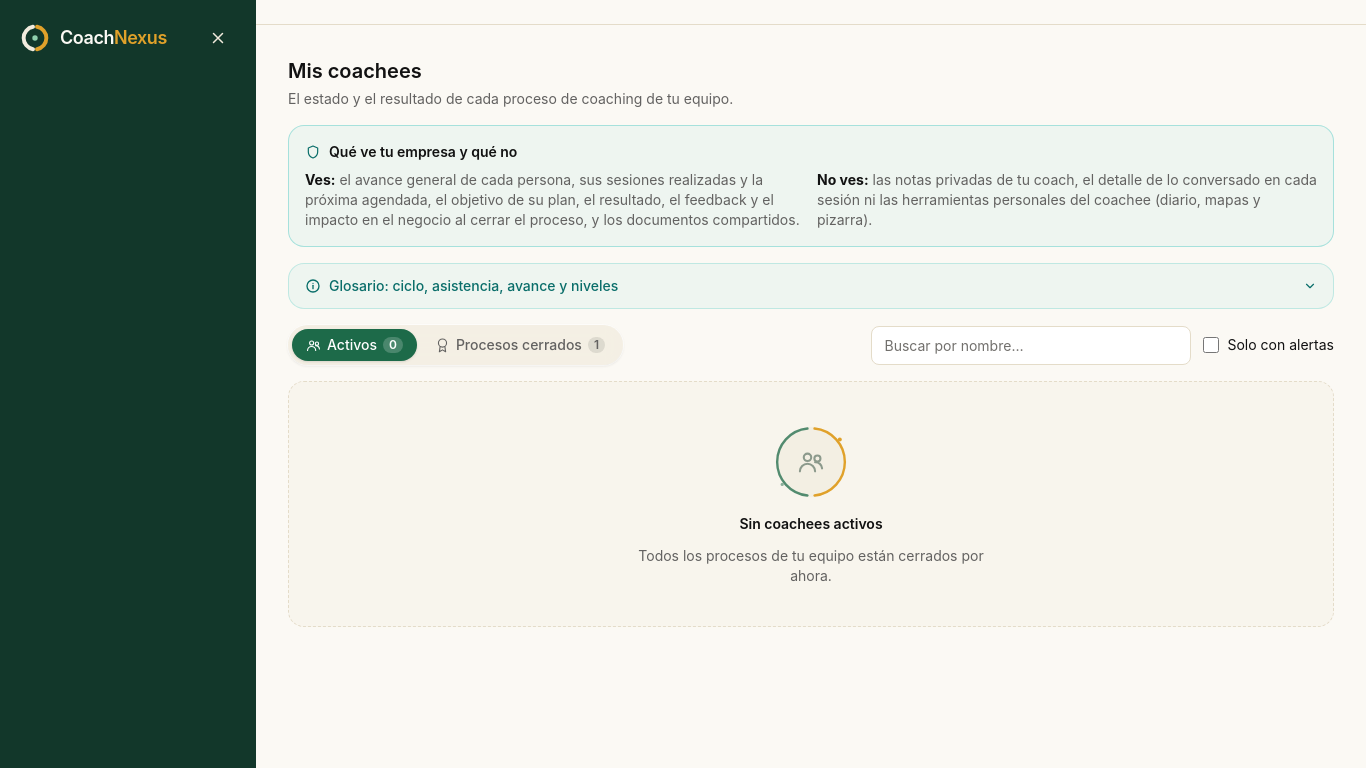
Test: CoacheesView (empresa) › opens the feedback modal with the coachee retroalimentación de cierre
Step 1. Click the tab "Procesos cerrados 1" → {"x": 520, "y": 345}, box [421,329,619,361]
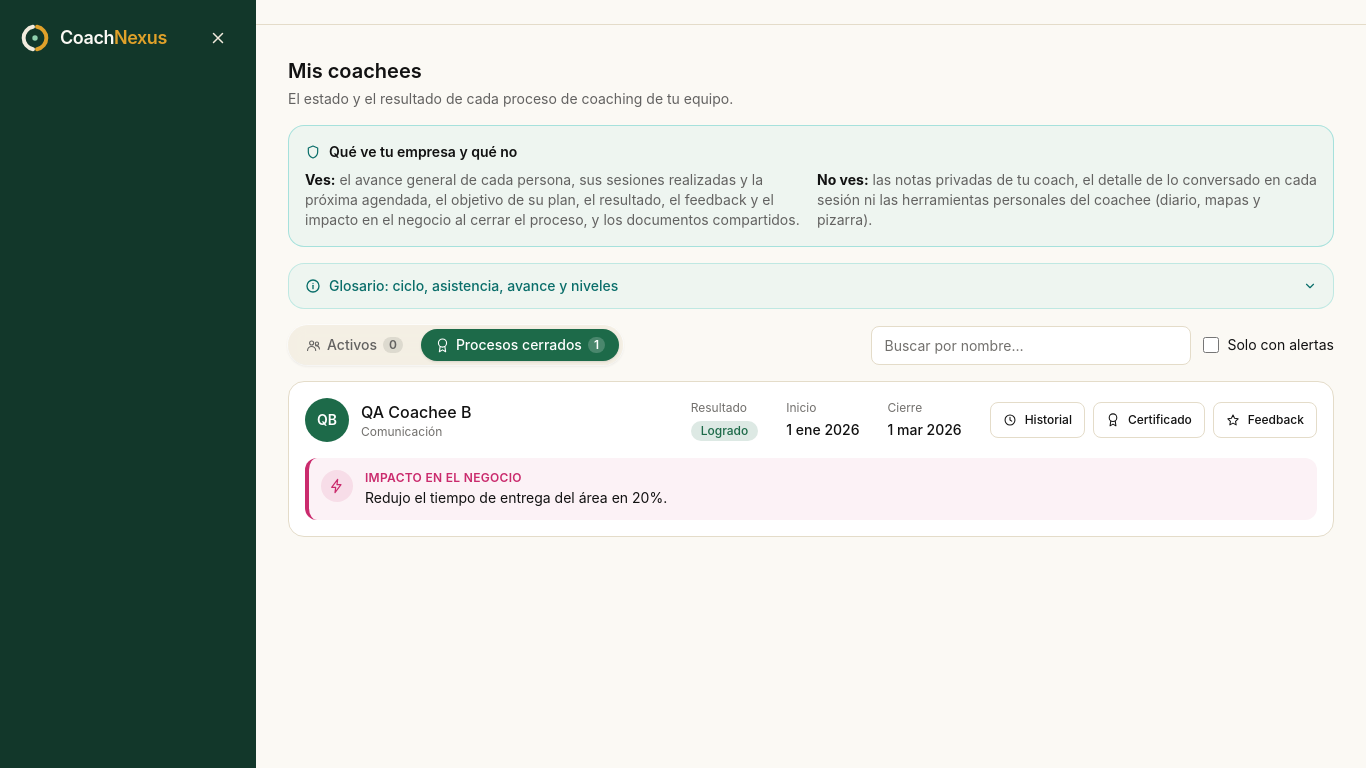
Step 2. Click the button "Feedback" → {"x": 1265, "y": 420}, box [1213,402,1317,438]
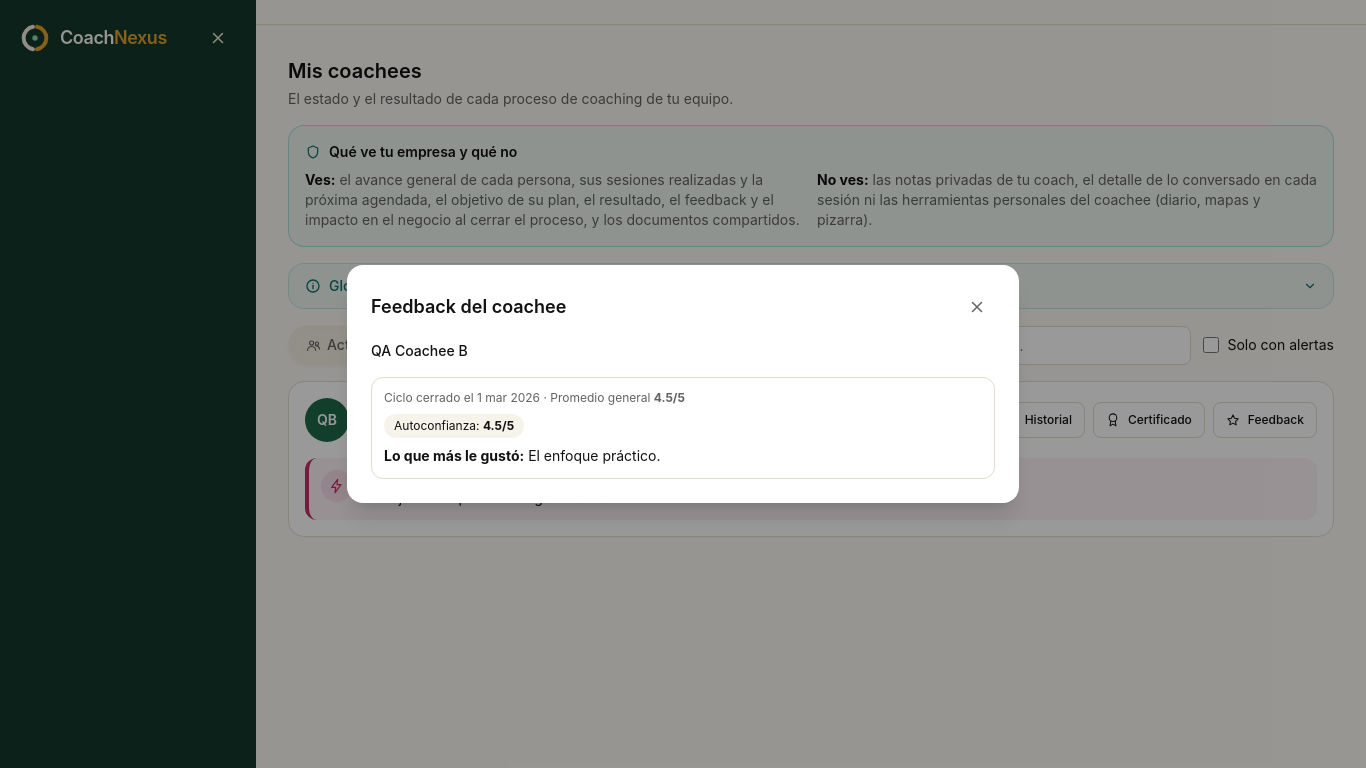
Expected: the text "Feedback del coachee" is shown, [371,293,566,321]
Expected: the text "Autoconfianza" is shown, [394,418,483,433]
Expected: the text "4.5/5" is shown, [654,390,685,405]
